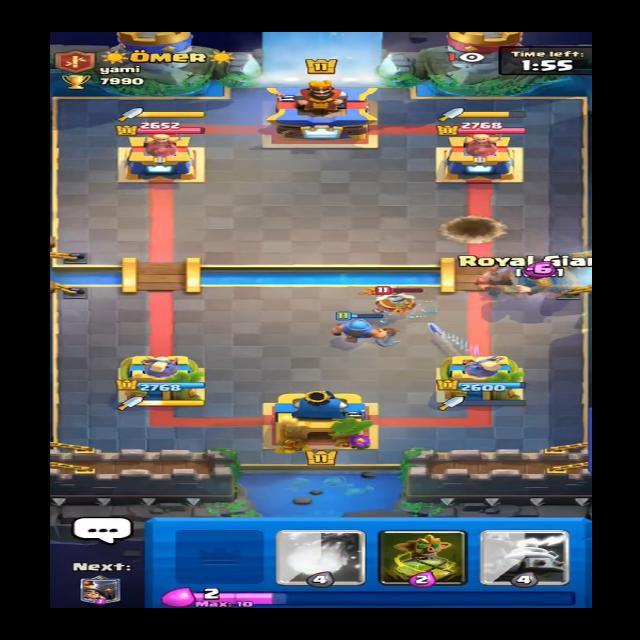lumberjack: (466, 257, 532, 294)
monk: (360, 279, 423, 318)
